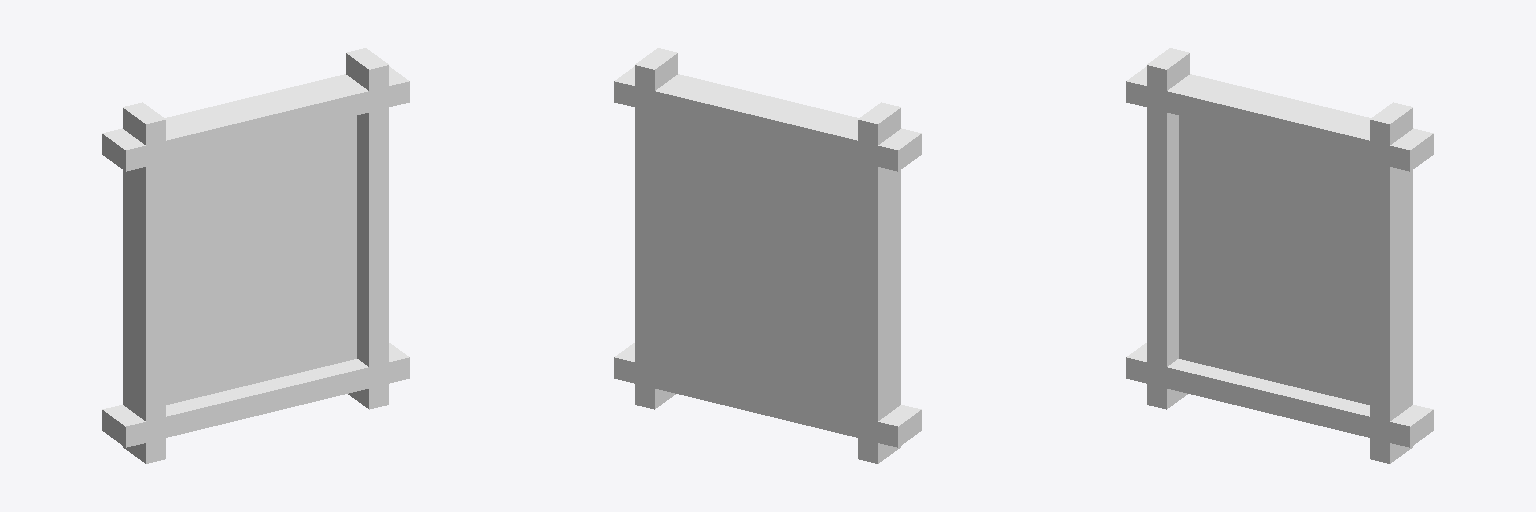
File: Picture_1.obj
The picture shows the model from 3 angles: view 1: azimuth 30°, elevation 25°; view 2: azimuth 150°, elevation 25°; view 3: azimuth 330°, elevation 25°; orthographic projection.
Parts seen in each view (by area): view 1: Picture_1; view 2: Picture_1; view 3: Picture_1.
Part boxes in pixels (x1,y1,x2,y2): Picture_1: (102,48,409,463); Picture_1: (614,48,921,463); Picture_1: (1126,48,1433,463).
Bounding box in the file's own units: 14 × 16 × 2.